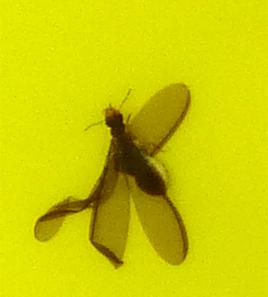Isoptera: (100, 100, 168, 197)
